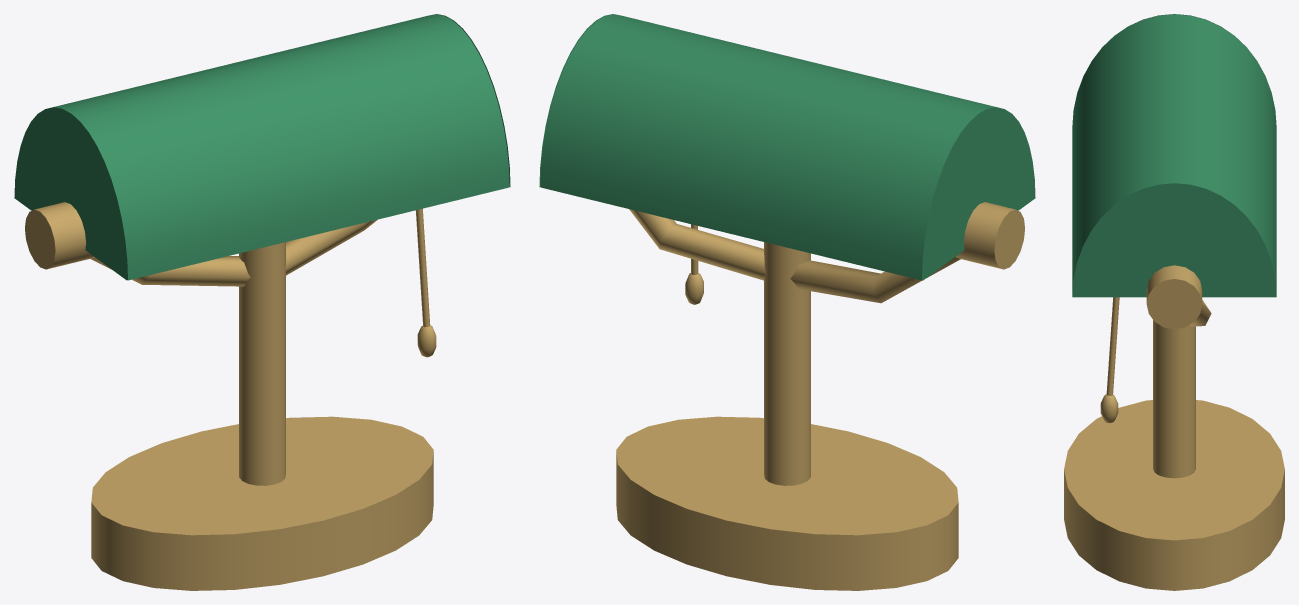
The model's file is lamp_banker.glb.
3 renders of one model, left to right at view 1: azimuth 30°, elevation 25°; view 2: azimuth 150°, elevation 25°; view 3: azimuth 270°, elevation 25°, orthographic. The views are drawn at different scales.
Visible parts, largest first — view 1: Banker_Lamp_Green_Open_Shade, Banker_Lamp_Oval_Base, Banker_Lamp_Stem, Banker_Lamp_Shade_End_-1, Banker_Lamp_End_Pivot_-1, Banker_Lamp_Shade_Arm_-1, Banker_Lamp_Shade_Arm_1, Banker_Lamp_Pull_Chain; view 2: Banker_Lamp_Green_Open_Shade, Banker_Lamp_Oval_Base, Banker_Lamp_Stem, Banker_Lamp_Shade_End_-1, Banker_Lamp_Shade_Arm_1, Banker_Lamp_Shade_Arm_-1, Banker_Lamp_End_Pivot_-1; view 3: Banker_Lamp_Green_Open_Shade, Banker_Lamp_Oval_Base, Banker_Lamp_Shade_End_1, Banker_Lamp_Stem, Banker_Lamp_End_Pivot_1, Banker_Lamp_Pull_Chain, Banker_Lamp_Chain_Pull.
Boxes of the visible parts, box(x1,y1,x2,y2) form: Banker_Lamp_Green_Open_Shade: box(49, 14, 509, 280); Banker_Lamp_Oval_Base: box(91, 416, 433, 590); Banker_Lamp_Stem: box(239, 242, 285, 485); Banker_Lamp_Shade_End_-1: box(14, 107, 126, 280); Banker_Lamp_End_Pivot_-1: box(25, 202, 94, 269); Banker_Lamp_Shade_Arm_-1: box(90, 256, 250, 286); Banker_Lamp_Shade_Arm_1: box(285, 219, 377, 275); Banker_Lamp_Pull_Chain: box(415, 208, 430, 326); Banker_Lamp_Green_Open_Shade: box(540, 14, 1000, 280); Banker_Lamp_Oval_Base: box(616, 416, 958, 590); Banker_Lamp_Stem: box(764, 242, 810, 485); Banker_Lamp_Shade_End_-1: box(923, 107, 1035, 280); Banker_Lamp_Shade_Arm_1: box(629, 209, 765, 280); Banker_Lamp_Shade_Arm_-1: box(790, 257, 960, 303); Banker_Lamp_End_Pivot_-1: box(955, 202, 1024, 269); Banker_Lamp_Green_Open_Shade: box(1072, 14, 1276, 293); Banker_Lamp_Oval_Base: box(1064, 400, 1284, 590); Banker_Lamp_Shade_End_1: box(1072, 183, 1276, 297); Banker_Lamp_Stem: box(1153, 320, 1195, 478); Banker_Lamp_End_Pivot_1: box(1146, 265, 1202, 329); Banker_Lamp_Pull_Chain: box(1106, 297, 1119, 395); Banker_Lamp_Chain_Pull: box(1100, 394, 1118, 423).
Bounding box in the file's own units: 0.501 × 0.5 × 0.2378.
